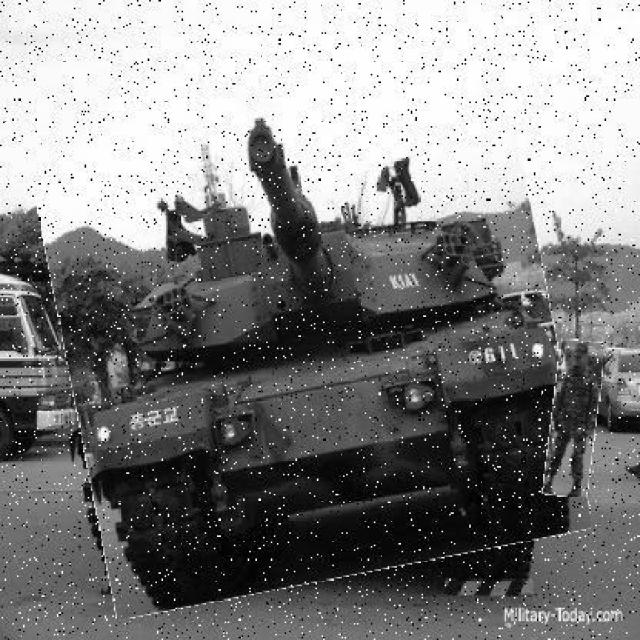Person: (547, 341, 601, 498)
Tank: (49, 92, 573, 601)
